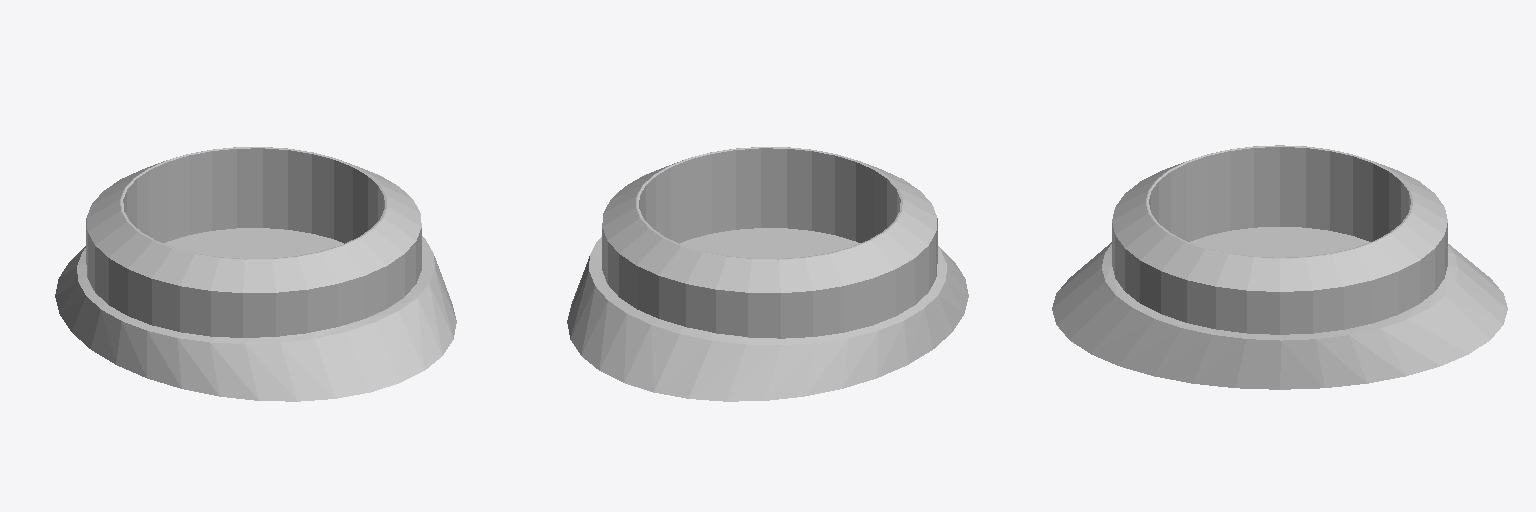
The model's file is hole.obj.
The picture shows the model from 3 angles: view 1: azimuth 30°, elevation 25°; view 2: azimuth 150°, elevation 25°; view 3: azimuth 270°, elevation 25°; orthographic projection.
Visible parts, largest first — view 1: Cylinder.001; view 2: Cylinder.001; view 3: Cylinder.001.
Boxes of the visible parts, <box> form: Cylinder.001: <box>55,147,456,401</box>; Cylinder.001: <box>567,147,968,401</box>; Cylinder.001: <box>1052,145,1507,389</box>.
Size of the model in its own units: 2.6 by 0.8 by 3.11.